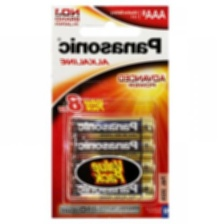battery: (65, 153, 156, 179), (66, 114, 158, 138), (65, 133, 156, 157), (65, 178, 157, 201)
book: (47, 3, 172, 220)
